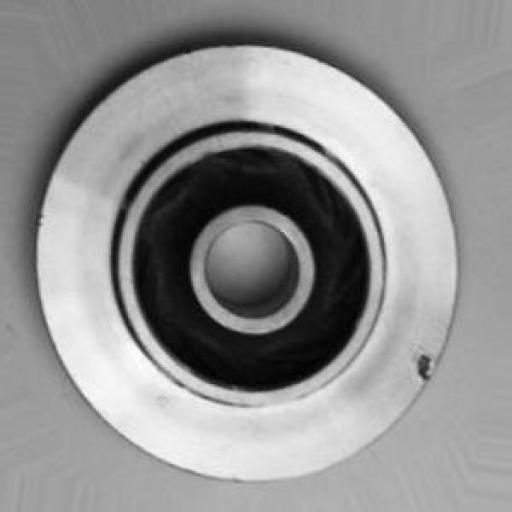defect: (409, 339, 444, 390)
